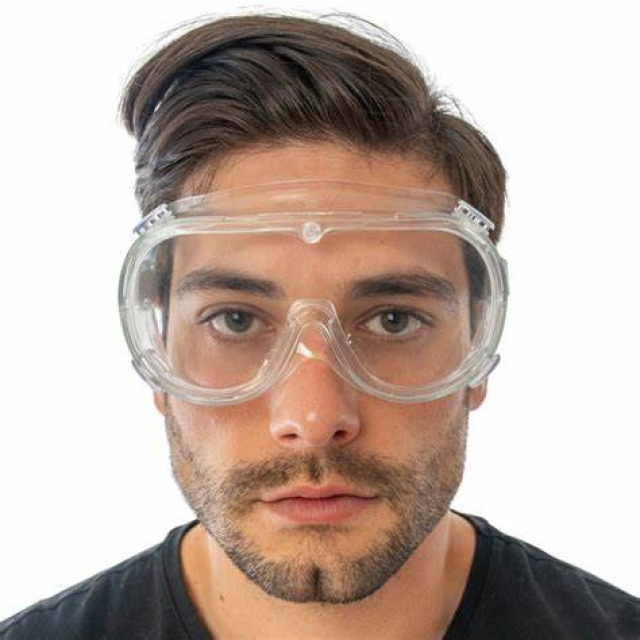Safety_Goggles: (110, 200, 517, 398)
